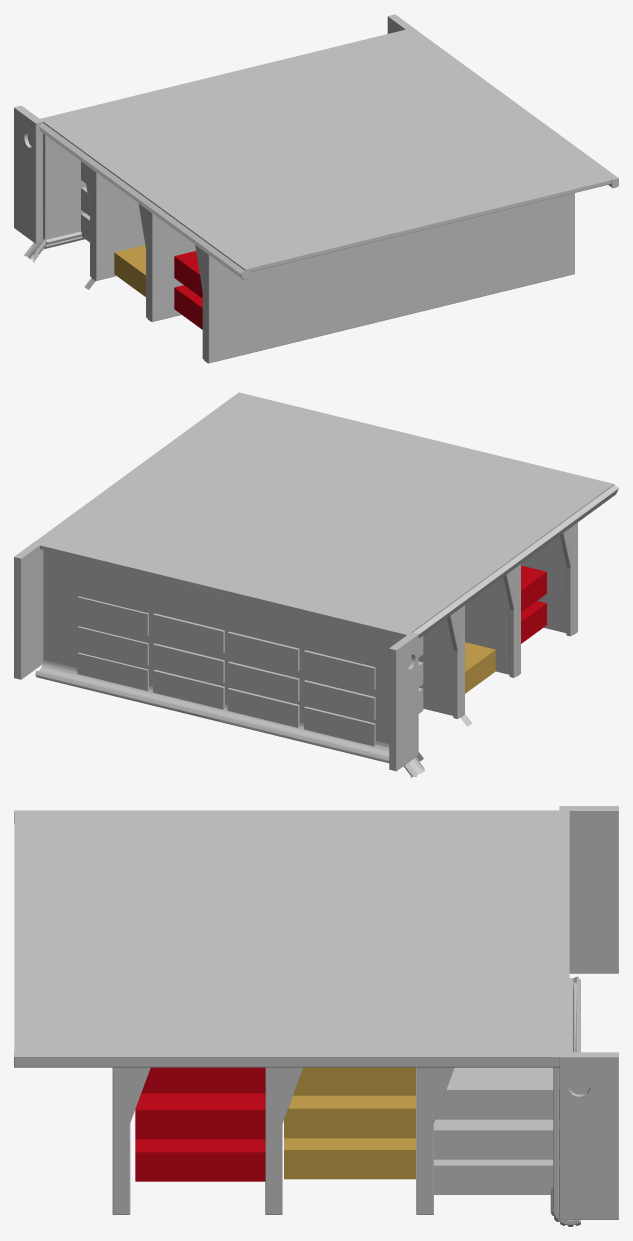
Rendered from swowwindow2.fbx.
3 views of the same model, one above another, from view 1: azimuth 30°, elevation 25°; view 2: azimuth 150°, elevation 25°; view 3: azimuth 270°, elevation 25° (orthographic). The views are drawn at different scales.
Parts seen in each view (by area): view 1: mqo_mesh; view 2: mqo_mesh; view 3: mqo_mesh.
Part boxes in pixels (<box>): mqo_mesh: <box>14,14,618,363</box>; mqo_mesh: <box>14,392,618,777</box>; mqo_mesh: <box>14,806,618,1226</box>.
Size of the model in its own units: 2010 by 681 by 2018.
